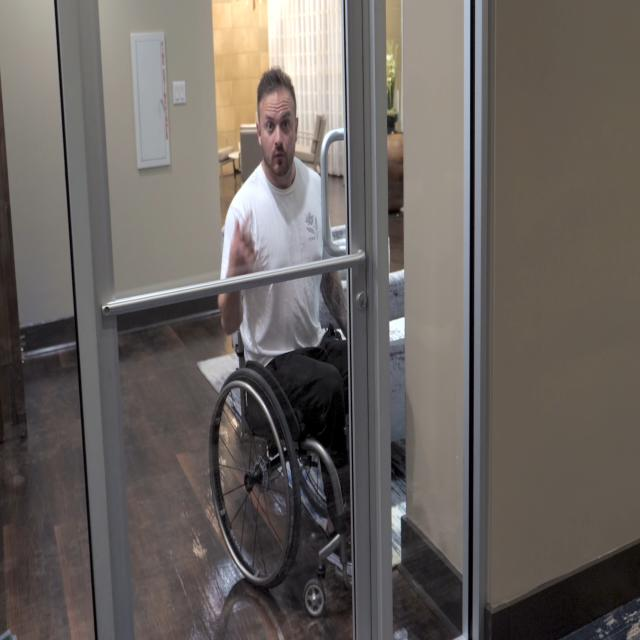wheelchairs: (200, 260, 390, 622)
